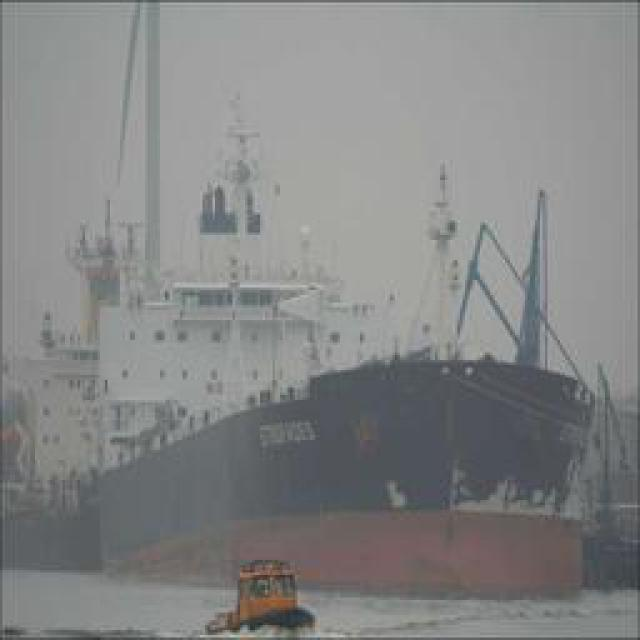Ship: (69, 74, 630, 601), (198, 541, 323, 640)
